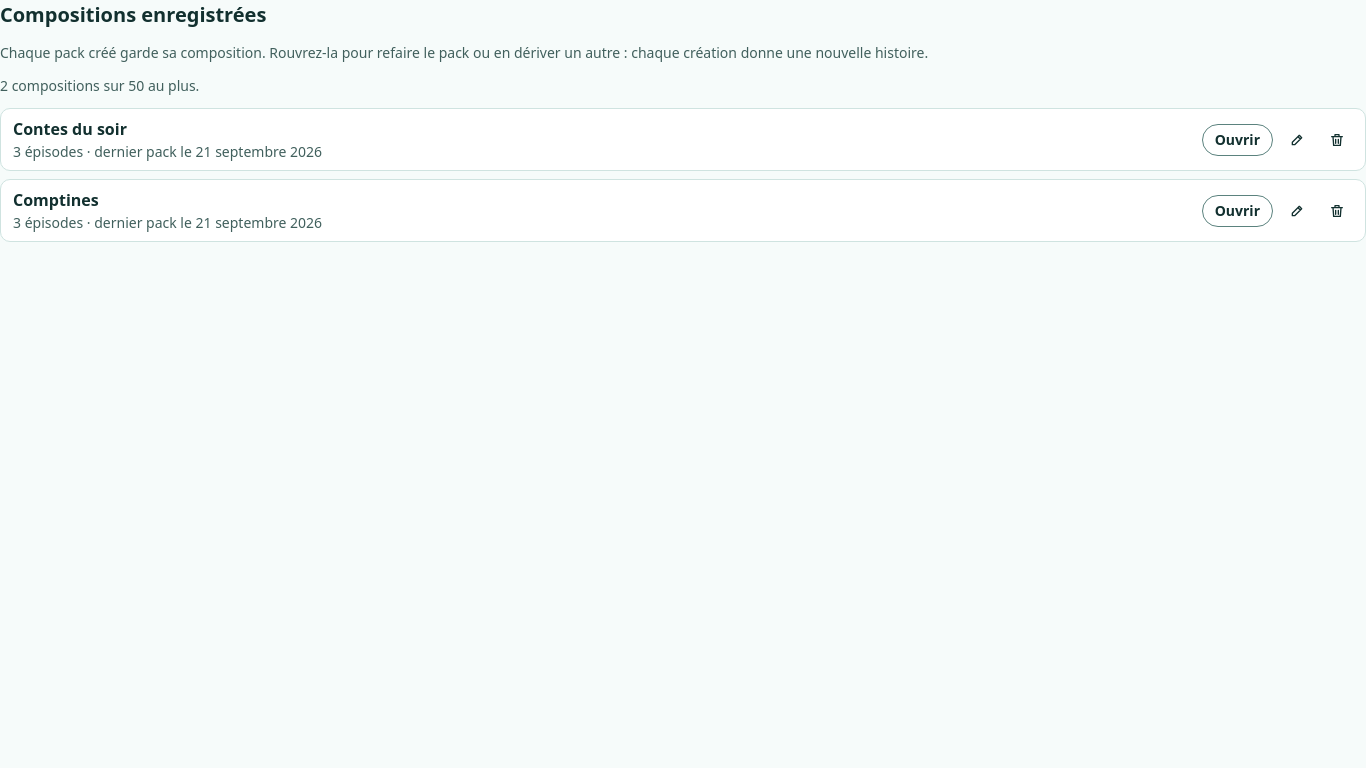
Test: renommer : refus du backend affiché dans le dialogue
This screenshot has width=1366, height=768.
Step 1. Click the button named "Renommer « Comptines »" → (1297, 210), box [1281,194,1313,226]
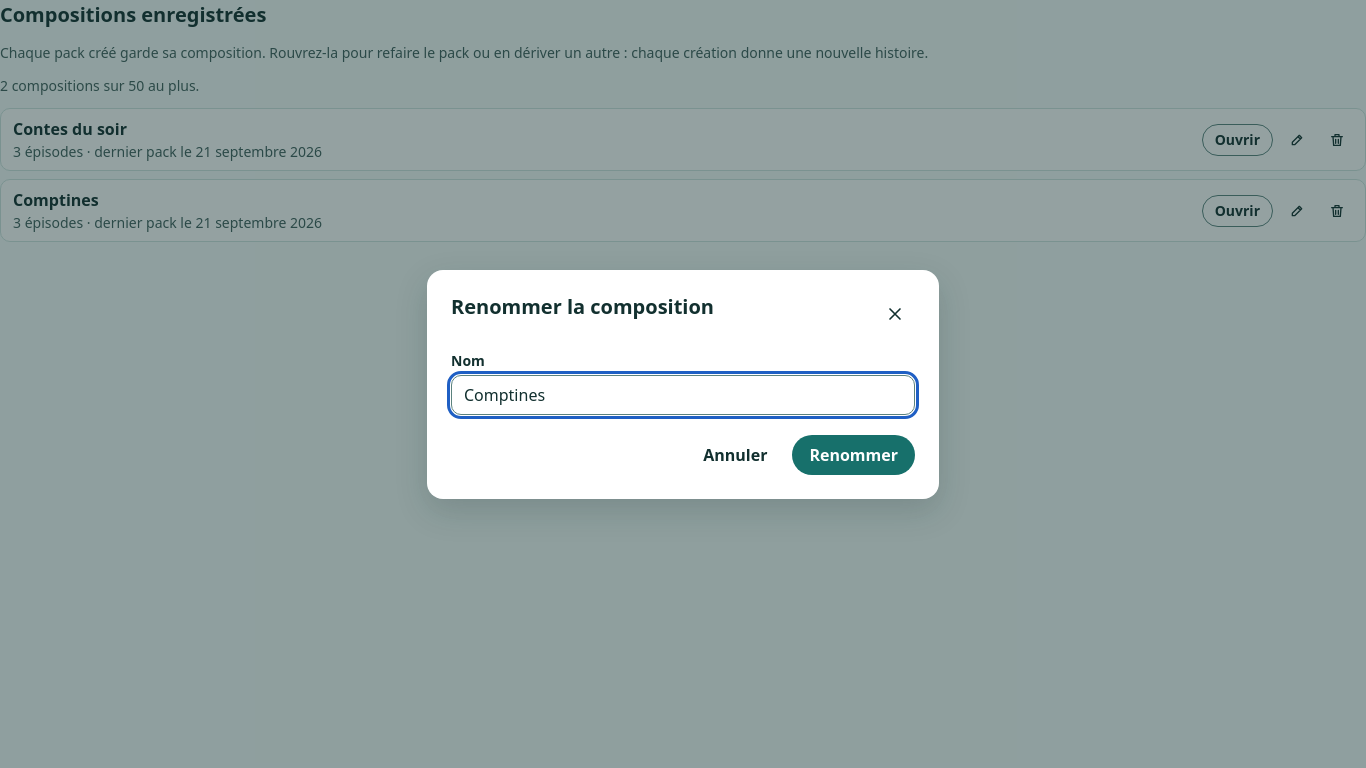
Step 2. Replace the text in the field labelled "Nom" with "contes du soir" → (683, 394), box [451,374,915,414]
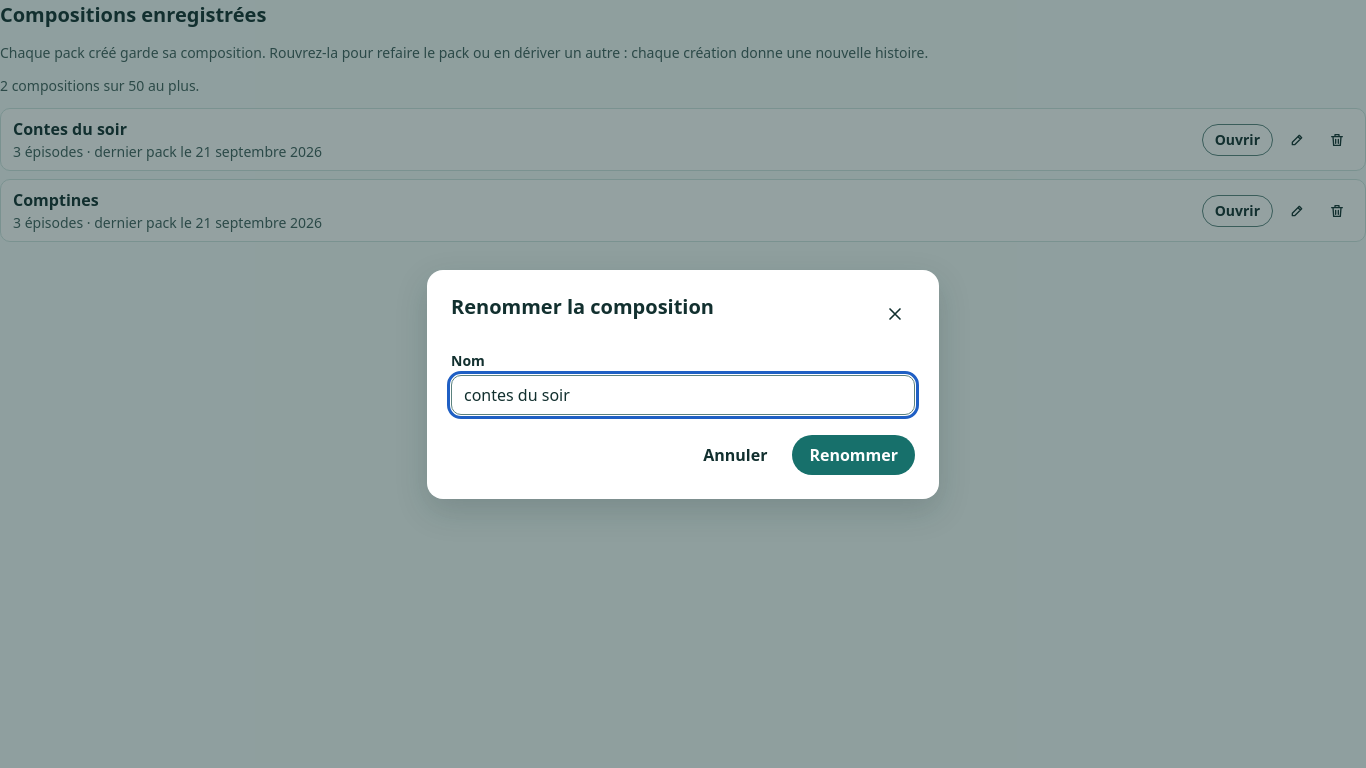
Step 3. Click the button "Renommer" → (854, 454), box [792,434,915,474]
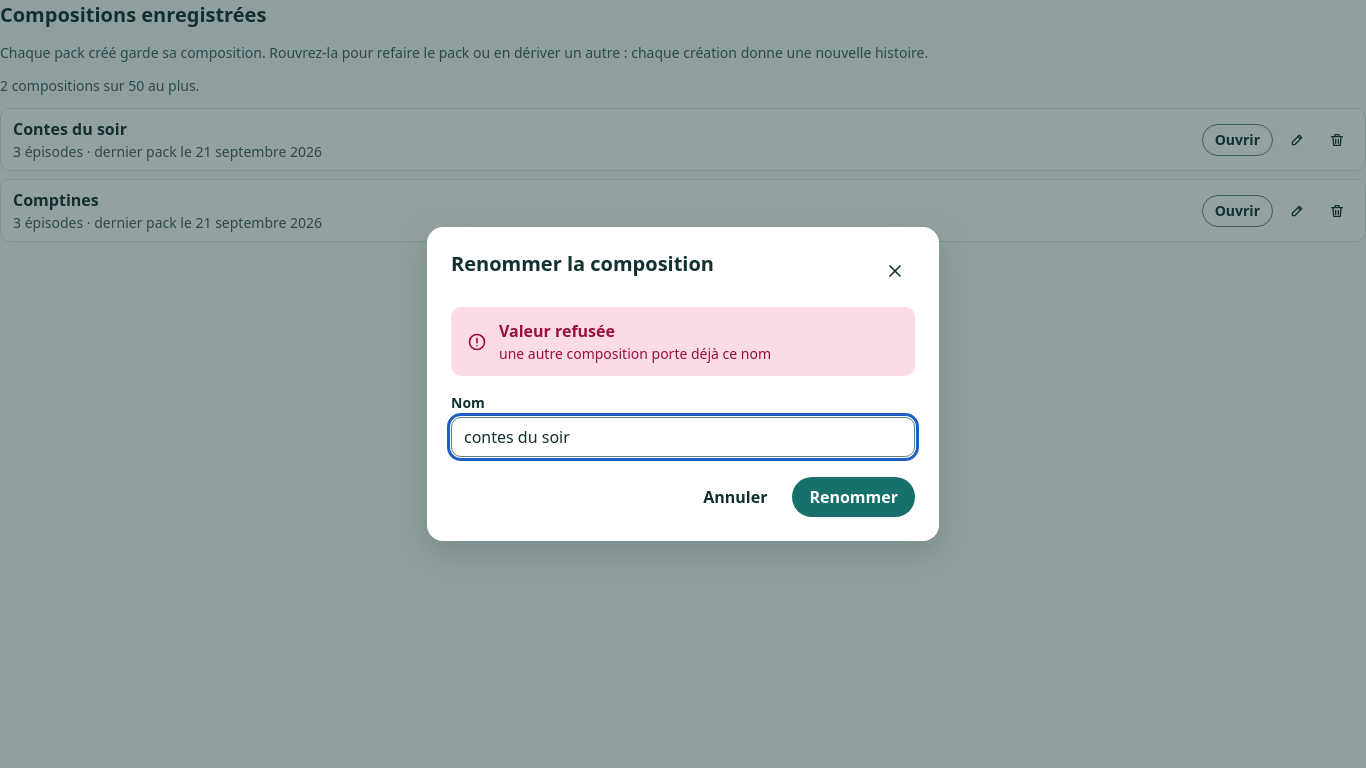
Result: the text "une autre composition porte déjà ce nom" is shown at [499,344,771,363]
